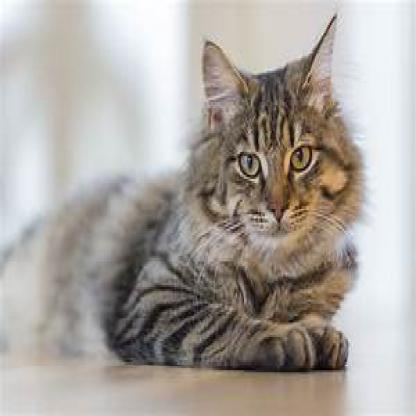cat: (107, 44, 358, 368)
